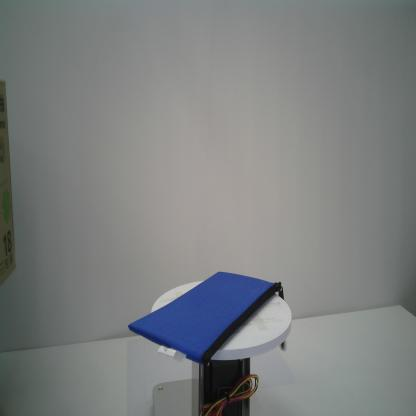Stationery: (123, 268, 292, 370)
